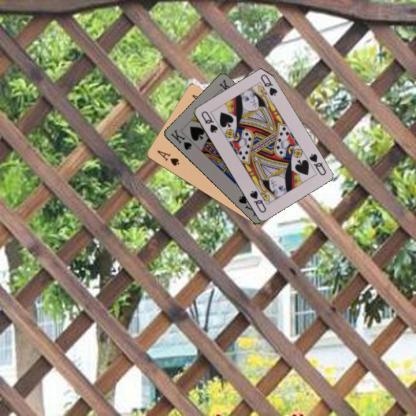As: (154, 147, 180, 168)
Ks: (168, 126, 193, 152)
Qs: (198, 108, 220, 135), (306, 151, 327, 177)
